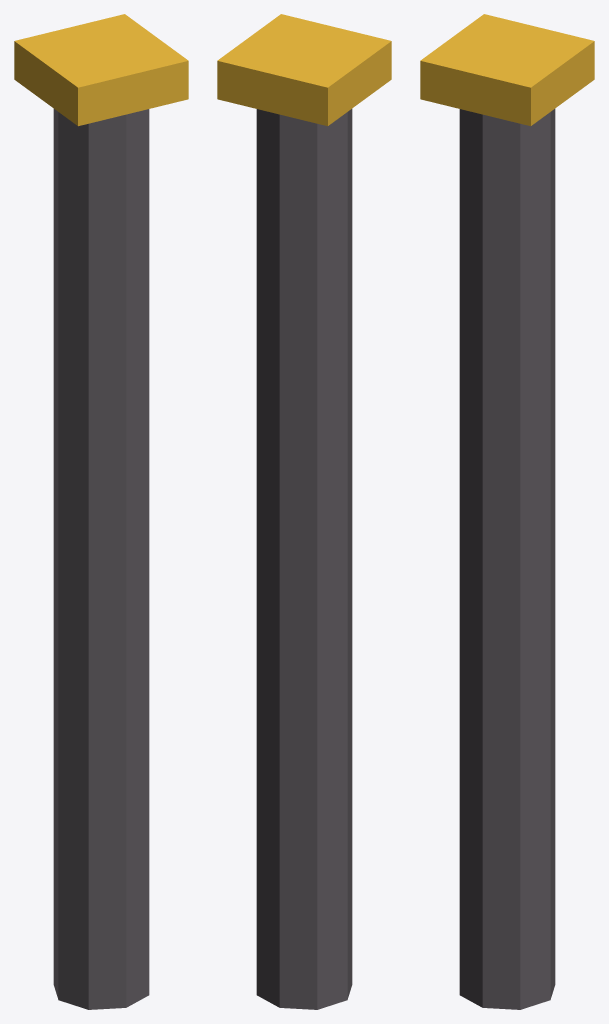
The model's file is Bld_OR_Pillar_04.glb.
3 views of the same model, side by side, from view 1: azimuth 30°, elevation 25°; view 2: azimuth 150°, elevation 25°; view 3: azimuth 330°, elevation 25° (orthographic).
Parts seen in each view (by area): view 1: Bld_OR_Pillar_04; view 2: Bld_OR_Pillar_04; view 3: Bld_OR_Pillar_04.
Part boxes in pixels (<box>): Bld_OR_Pillar_04: <box>14,14,188,1009</box>; Bld_OR_Pillar_04: <box>217,14,391,1009</box>; Bld_OR_Pillar_04: <box>420,14,594,1009</box>.
Bounding box in the file's own units: 0.9 × 7.3 × 0.9.
